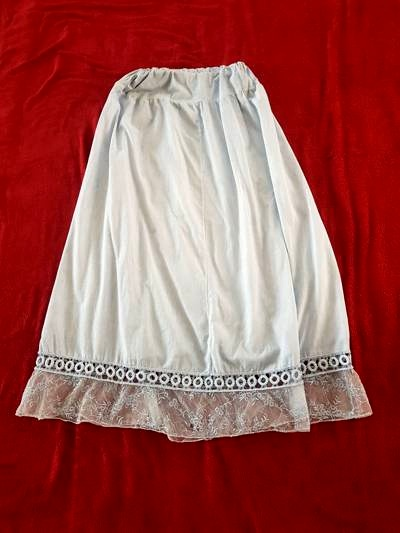Dress: (17, 56, 381, 480)
